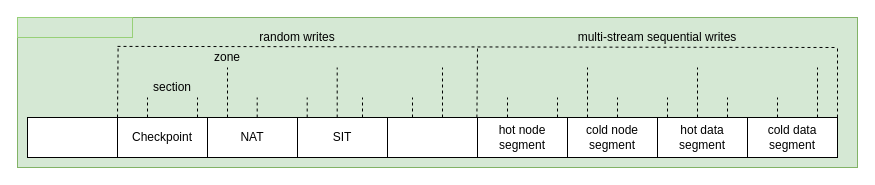
Image size: 875x185. Some labels were removed from this diagram. The centre of each missing label's shape, as x and y in pixels:
F2FS: point 74,27
SSA: point 432,137
Superblock: point 72,137
